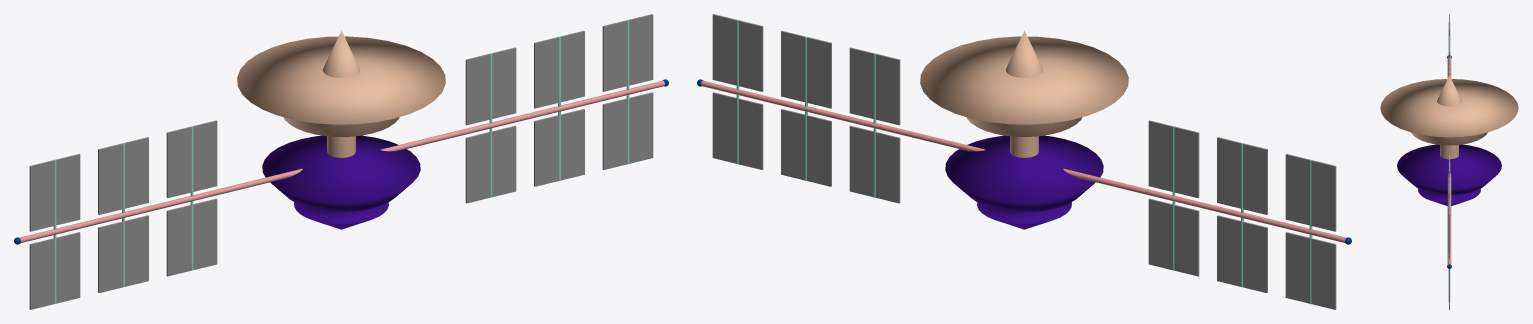
Rendered from Mini Base Station.obj.
3 renders of one model, left to right at view 1: azimuth 30°, elevation 25°; view 2: azimuth 150°, elevation 25°; view 3: azimuth 270°, elevation 25°, orthographic. The views are drawn at different scales.
Visible parts, largest first — view 1: Command, Docking, Box006, Box008, Box002, Box003, Box012, Box009, Box013, Box007, Box005, Box011 (+5 smaller); view 2: Command, Docking, Box008, Box002, Box006, Box012, Box003, Box009, Box013, Box007, Box005, Box011 (+5 smaller); view 3: Command, Docking, Solars1, Neck, Cylinder006.
Boxes of the visible parts, x1=… form: Command: x1=237, y1=30, x2=445, y2=136; Docking: x1=262, y1=135, x2=420, y2=229; Box006: x1=465, y1=47, x2=516, y2=125; Box008: x1=29, y1=154, x2=80, y2=231; Box002: x1=602, y1=14, x2=653, y2=91; Box003: x1=602, y1=92, x2=653, y2=169; Box012: x1=166, y1=120, x2=217, y2=198; Box009: x1=29, y1=232, x2=80, y2=309; Box013: x1=166, y1=198, x2=217, y2=276; Box007: x1=465, y1=125, x2=516, y2=203; Box005: x1=534, y1=30, x2=584, y2=108; Box011: x1=98, y1=137, x2=148, y2=214; Command: x1=920, y1=30, x2=1128, y2=136; Docking: x1=945, y1=135, x2=1103, y2=229; Box008: x1=1285, y1=154, x2=1336, y2=231; Box002: x1=712, y1=14, x2=763, y2=91; Box006: x1=849, y1=47, x2=900, y2=125; Box012: x1=1148, y1=120, x2=1199, y2=198; Box003: x1=712, y1=92, x2=763, y2=169; Box009: x1=1285, y1=232, x2=1336, y2=309; Box013: x1=1148, y1=198, x2=1199, y2=276; Box007: x1=849, y1=125, x2=900, y2=203; Box005: x1=781, y1=30, x2=831, y2=108; Box011: x1=1217, y1=137, x2=1267, y2=214; Command: x1=1380, y1=75, x2=1518, y2=145; Docking: x1=1397, y1=144, x2=1501, y2=205; Solars1: x1=1447, y1=173, x2=1451, y2=264; Neck: x1=1440, y1=145, x2=1458, y2=159; Cylinder006: x1=1448, y1=207, x2=1450, y2=301.
Size of the model in its own units: 52.5 by 15.59 by 14.55.
